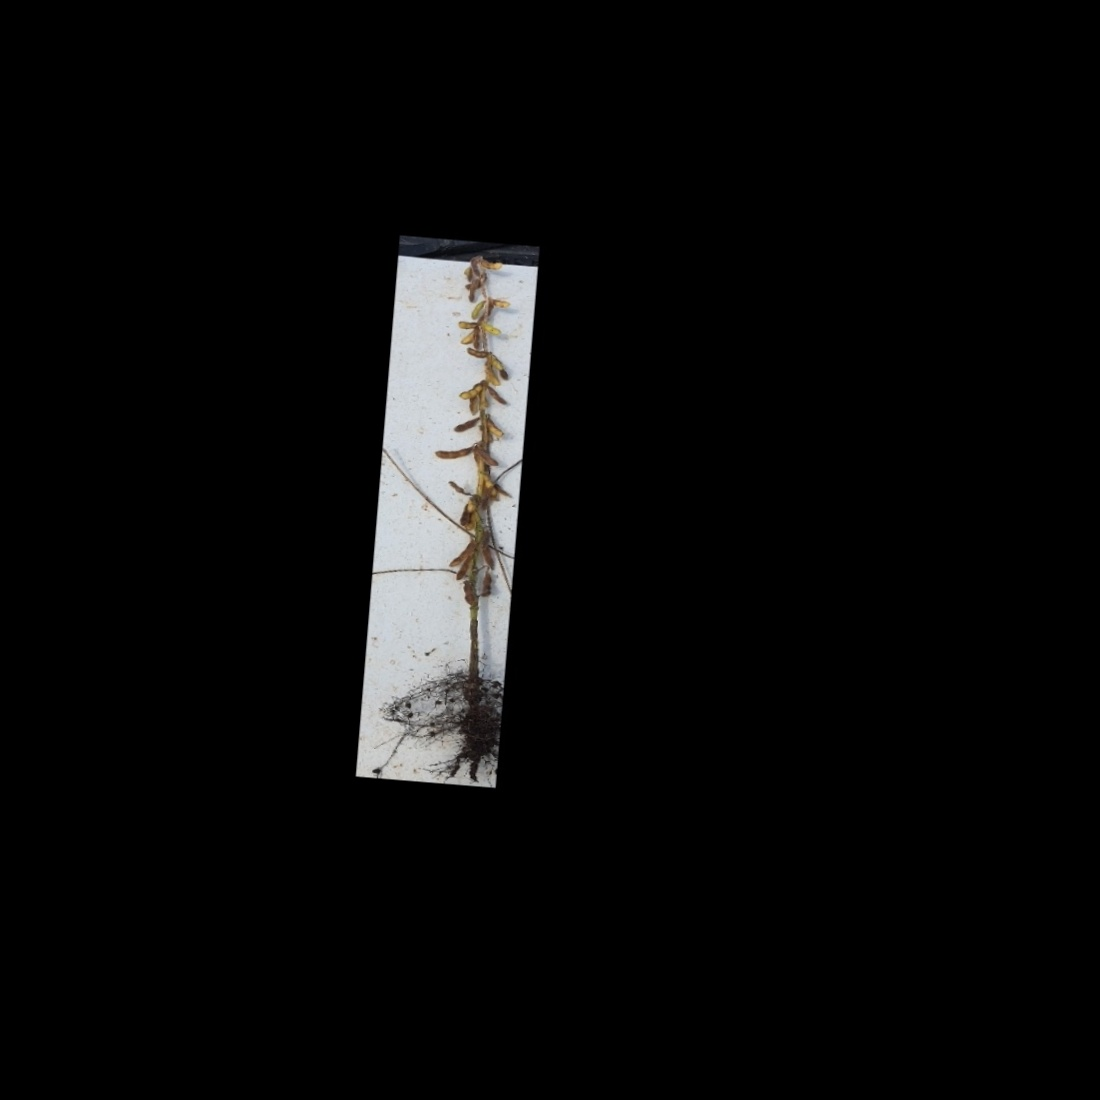pod: (431, 441, 474, 464), (485, 383, 514, 410), (450, 414, 480, 434), (456, 379, 483, 402), (454, 556, 472, 583), (485, 416, 507, 438), (480, 255, 506, 273), (467, 298, 486, 322), (488, 293, 510, 312), (466, 345, 487, 360)
soy: (378, 242, 533, 753)
